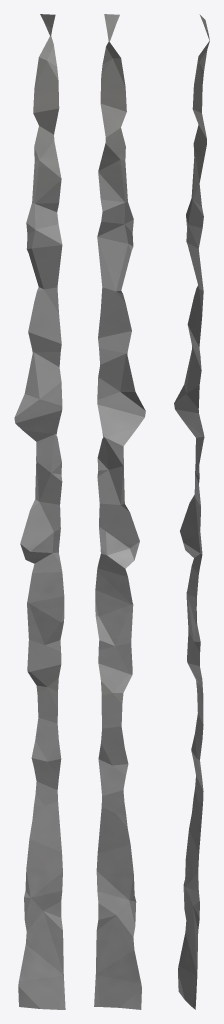
3 views of the same model, side by side, from view 1: azimuth 30°, elevation 25°; view 2: azimuth 210°, elevation 25°; view 3: azimuth 330°, elevation 25° (orthographic).
Size of the model in its own units: 0.0323 by 0.8374 by 0.0226.
Materials: 1 (1 with a texture image).
